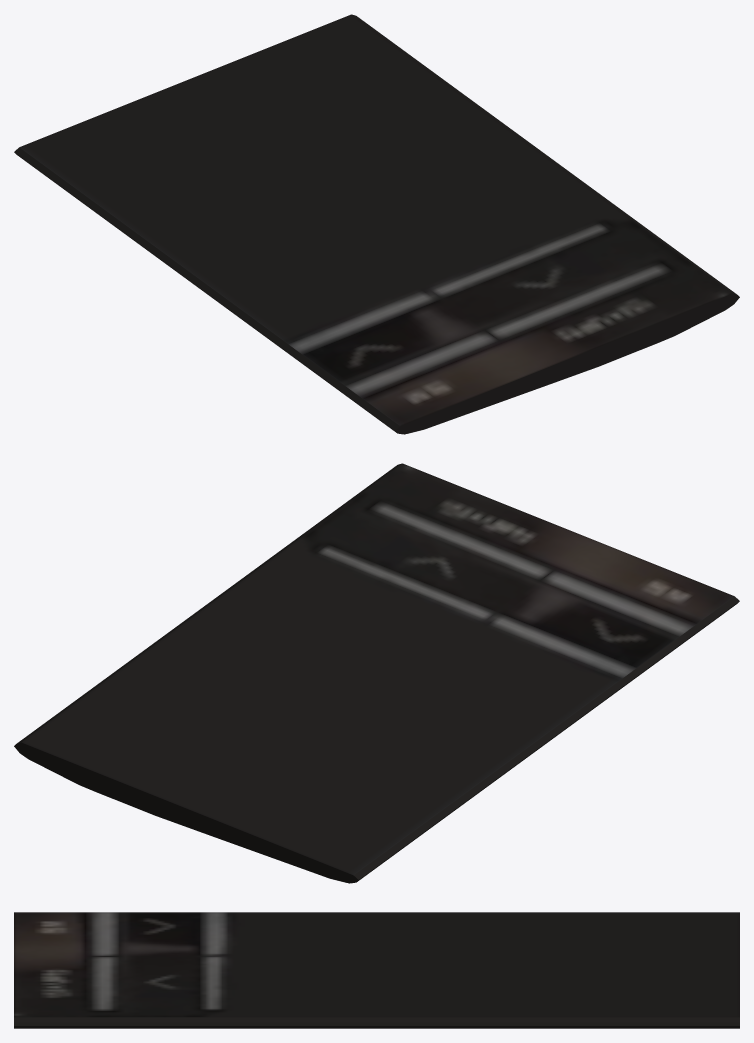
The model's file is base_tex.obj.
The picture shows the model from 3 angles, top to bottom: view 1: azimuth 30°, elevation 25°; view 2: azimuth 150°, elevation 25°; view 3: azimuth 270°, elevation 25°; orthographic projection. The views are drawn at different scales.
Size of the model in its own units: 0.0665 by 0.0113 by 0.1274.
1 material, 1 textured.
